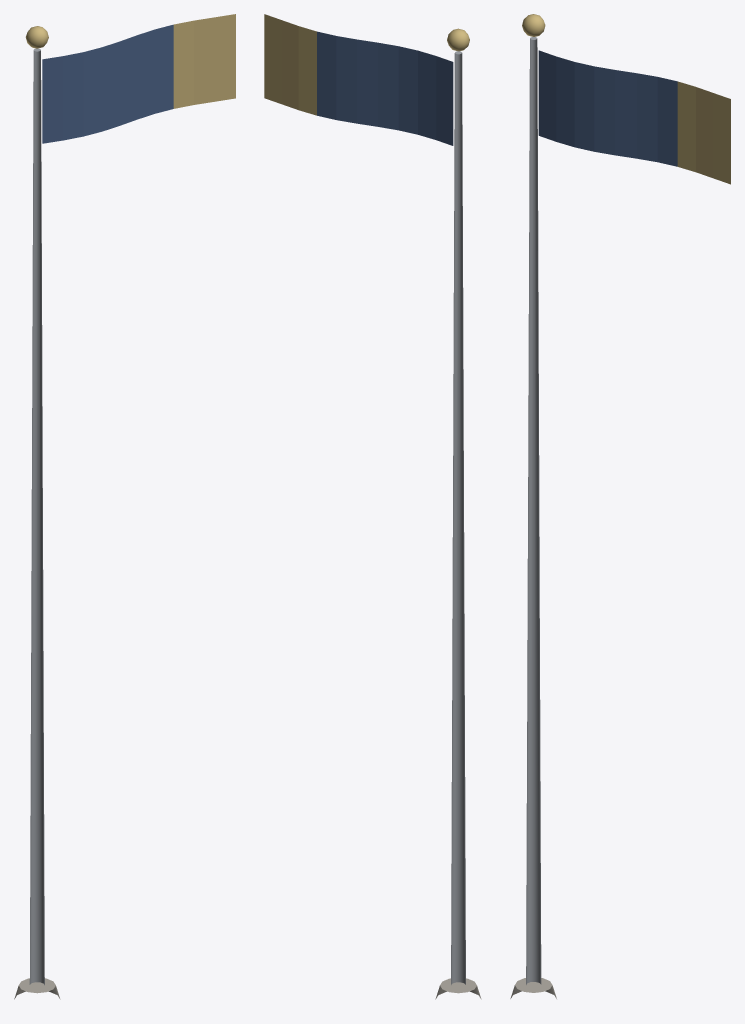
File: gate_flagpole.glb
3 views of the same model, side by side, from view 1: azimuth 30°, elevation 25°; view 2: azimuth 150°, elevation 25°; view 3: azimuth 330°, elevation 25° (orthographic).
Parts seen in each view (by area): view 1: gate_flagpole; view 2: gate_flagpole; view 3: gate_flagpole.
Part boxes in pixels (x1,y1,x2,y2): gate_flagpole: [14, 14, 235, 999]; gate_flagpole: [264, 14, 481, 999]; gate_flagpole: [510, 14, 730, 998].
Size of the model in its own units: 2.15 by 9.22 by 0.4.
